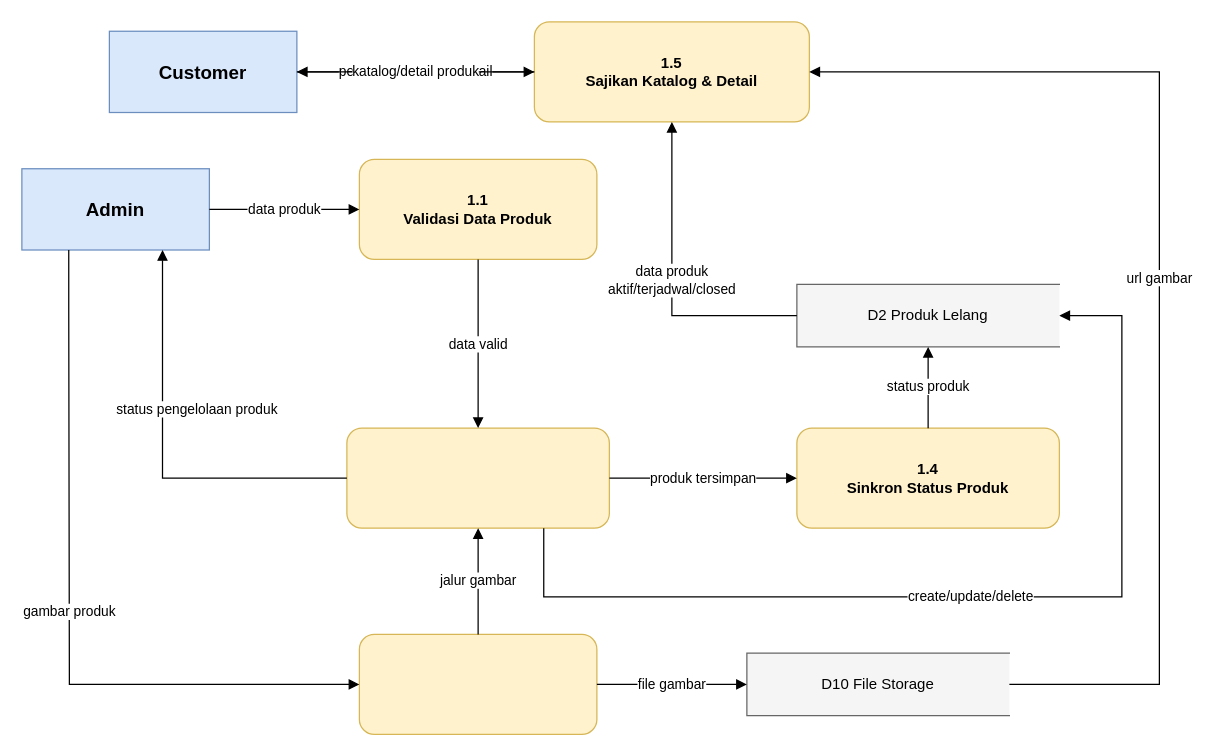
Image size: 1214x756. Some labels were removed from this diagram. Each missing label, with the centre of its shape:
1.2 Simpan Gambar Produk: (477,683)
1.3 Simpan/Ubah/Hapus Produk: (477,477)
